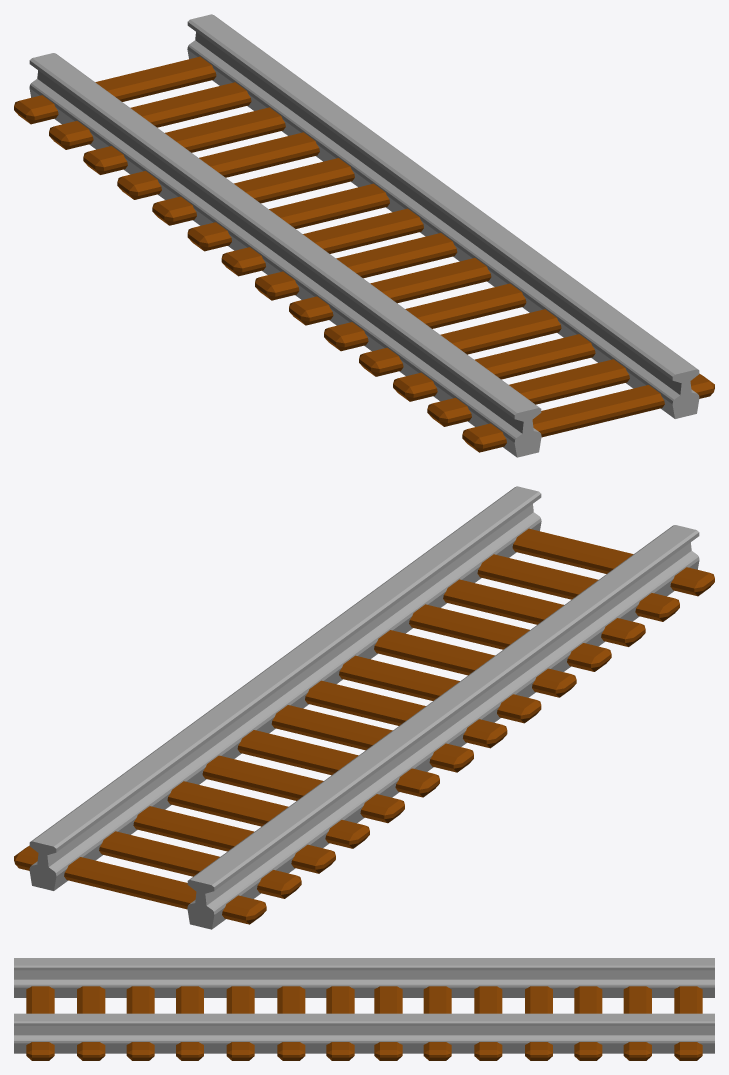
File: RayDuzUzun.fbx
The picture shows the model from 3 angles, top to bottom: view 1: azimuth 30°, elevation 25°; view 2: azimuth 150°, elevation 25°; view 3: azimuth 270°, elevation 25°; orthographic projection. The views are drawn at different scales.
Visible parts, largest first — view 1: Railroad113; view 2: Railroad113; view 3: Railroad113.
Part boxes in pixels (<box>): Railroad113: <box>14,14,714,457</box>; Railroad113: <box>14,486,714,929</box>; Railroad113: <box>14,958,714,1060</box>.
Bounding box in the file's own units: 1.03 × 0.1816 × 3.59.
